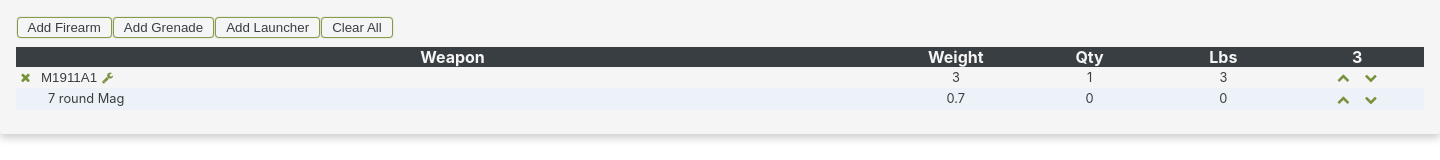
Test: weapons card intergration tests › selecting firearms › should be possible to increase spare ammo
What coordinates should you click on to do the following:
click the button with class "button--up" in the row of "0.7"
I would click on:
 (1343, 99)
Its box is left=1335, top=91, right=1351, bottom=107.
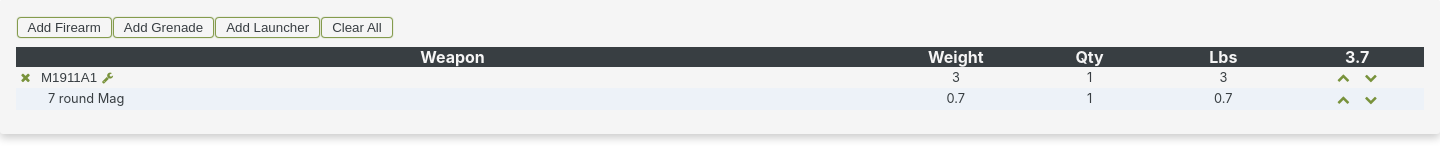
expect the element with class "magazineRow" reads "7 round Mag 0.7 1 0.7": met, box left=16, top=88, right=1424, bottom=110
